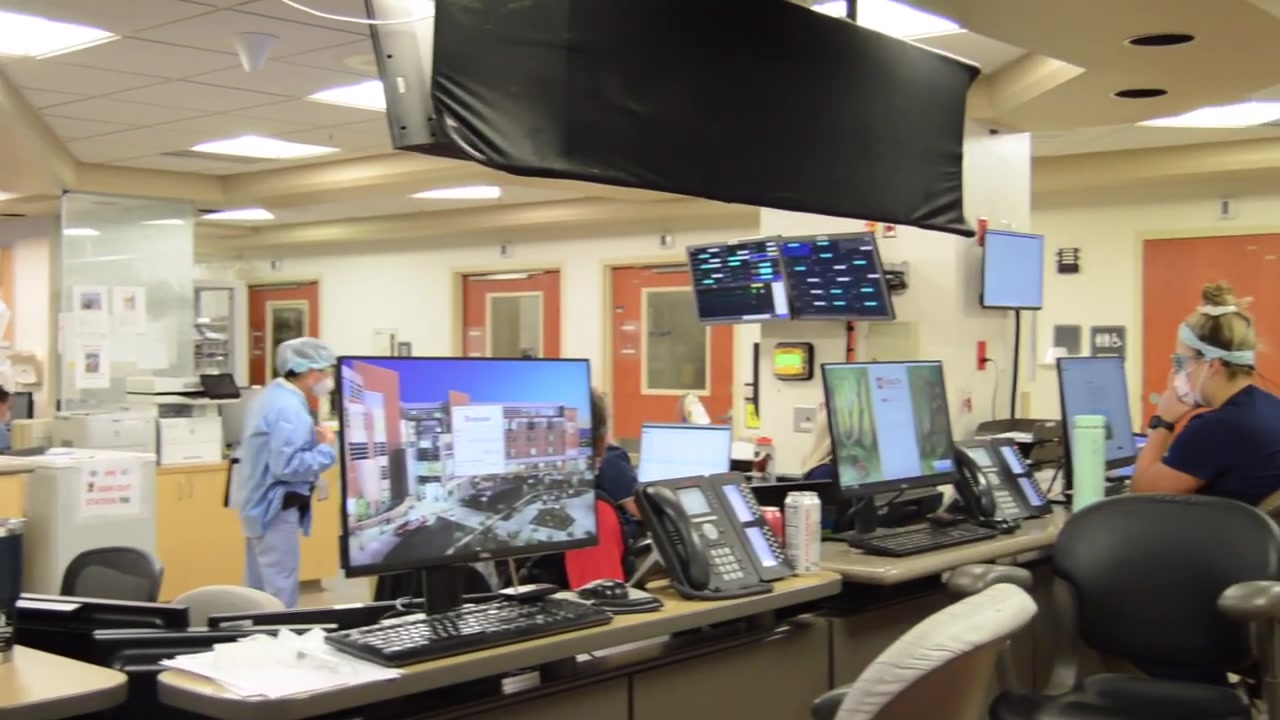TV: (776, 228, 896, 320), (682, 235, 789, 321), (982, 229, 1045, 312)
chair: (1032, 495, 1280, 720), (814, 583, 1038, 720), (62, 547, 165, 603), (170, 586, 293, 630)
computer: (335, 355, 597, 617), (821, 360, 960, 521), (1053, 356, 1137, 496), (639, 423, 732, 488)
counter: (1, 452, 340, 582)
countertop: (158, 569, 846, 720), (805, 498, 1075, 587), (1, 645, 128, 720)
handle: (176, 478, 184, 502), (187, 477, 194, 501)
keyboard: (324, 596, 614, 670), (850, 523, 999, 558)
mouse: (575, 578, 628, 601), (975, 517, 1021, 535)
staff: (363, 380, 625, 605), (1131, 280, 1280, 526), (225, 335, 337, 613), (588, 376, 642, 518), (1, 381, 14, 455)
telephone: (632, 472, 797, 601), (947, 436, 1053, 524)
